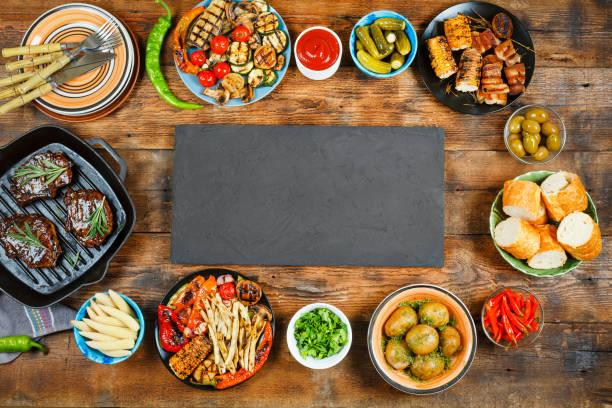Braised Crucian Carp: (0, 123, 140, 306), (154, 269, 275, 390), (418, 1, 534, 116), (172, 0, 289, 108), (367, 284, 478, 395), (489, 170, 595, 277)
